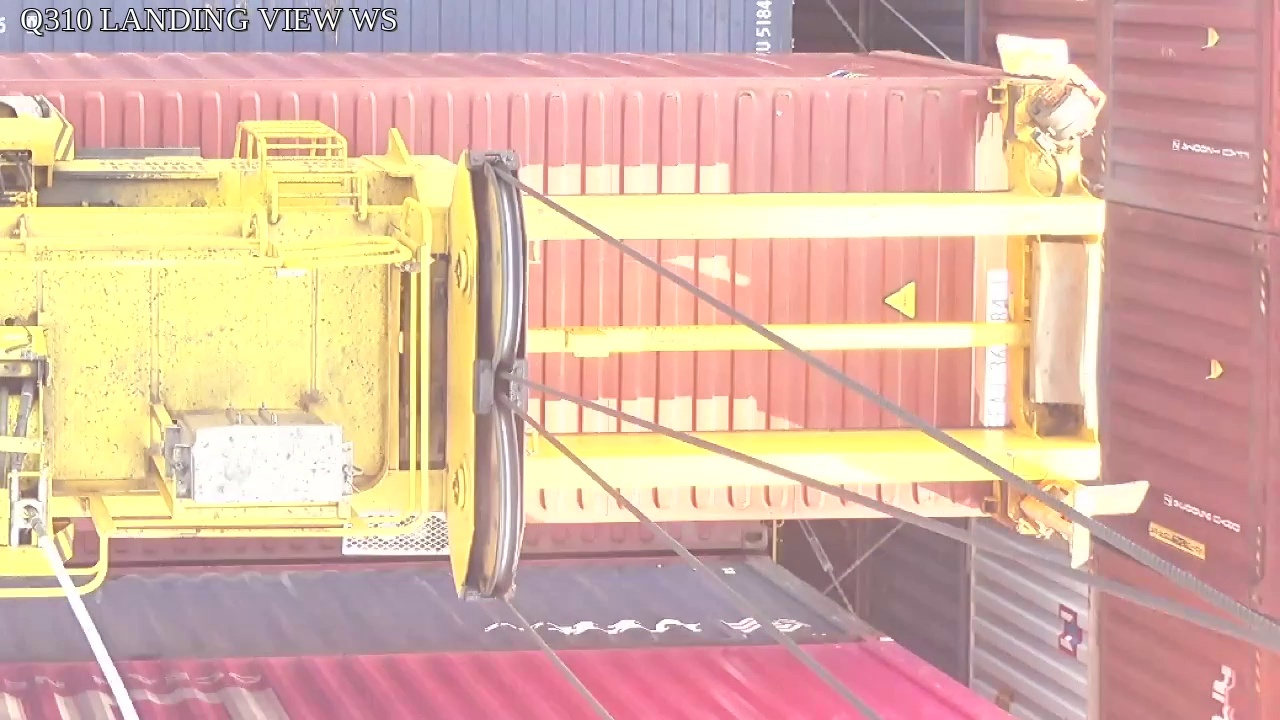right: (444, 151, 531, 605)
